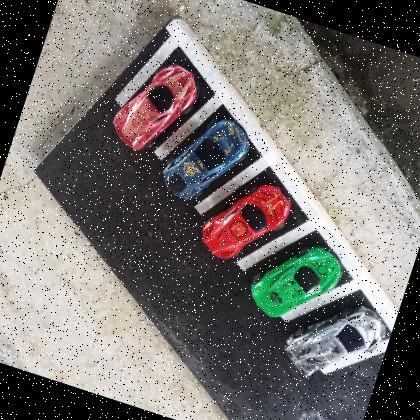Car: (276, 287, 392, 398), (242, 229, 348, 334), (156, 105, 256, 215), (106, 51, 202, 163), (195, 168, 295, 274)
